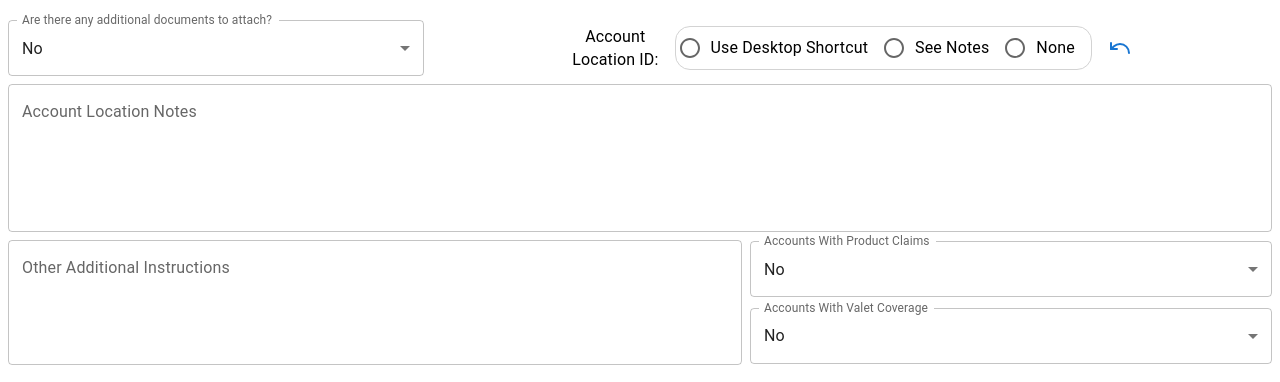
it: view-policy-types/CctInstructionsOther › sets account location notes for Use Desktop Shortcut option
What coordinates should you click on to do the following:
click the radio button labelled "Use Desktop Shortcut"
I would click on:
 (773, 48)
Its box is [678,36,868,60].
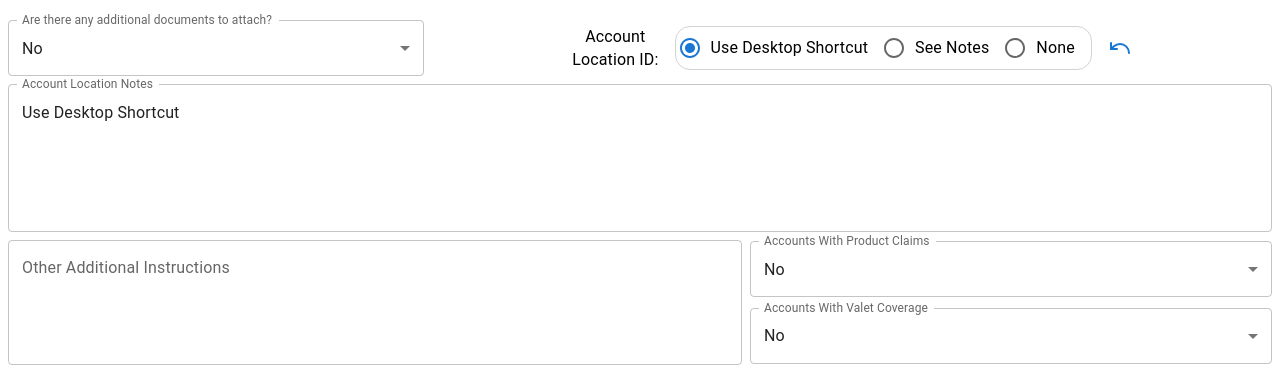
Now the text box labelled "Account Location Notes" holds "Use Desktop Shortcut", box [22,100,1258,216]
